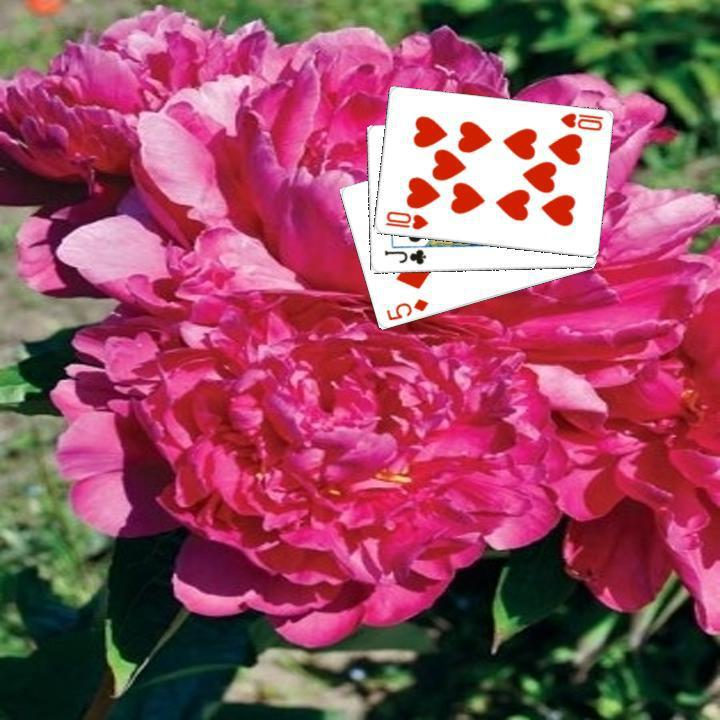10: (381, 207, 430, 232), (555, 108, 604, 133)
5: (382, 295, 430, 323)
J: (379, 245, 427, 267)
